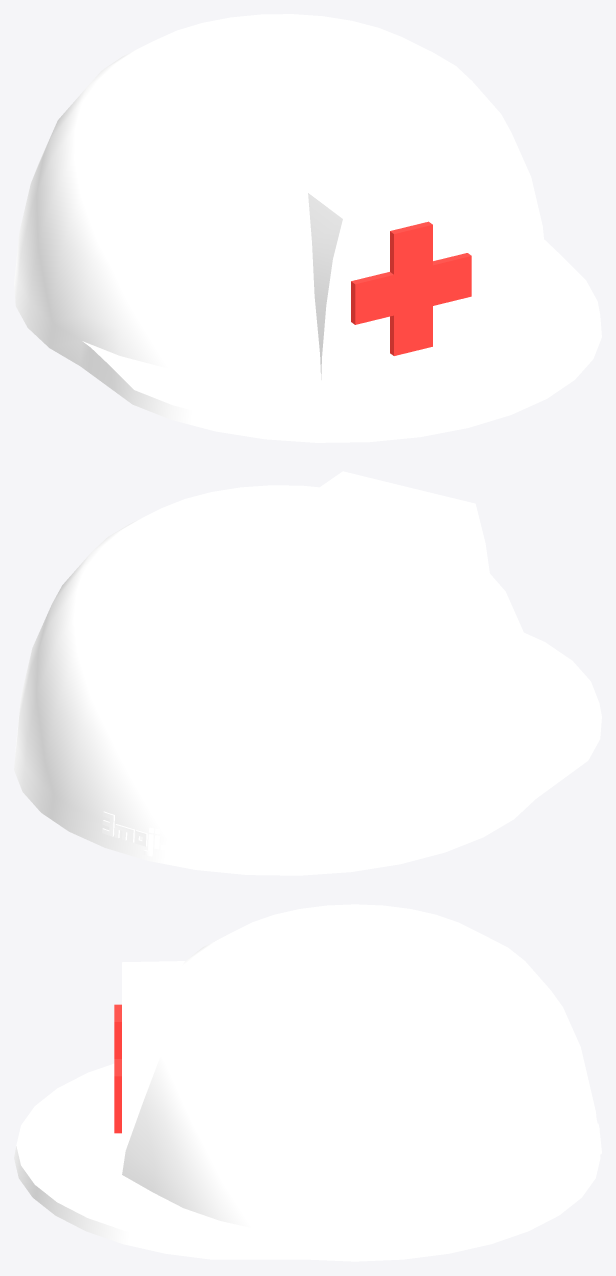
The model's file is rescue_workers_helmet.gltf.
The picture shows the model from 3 angles, top to bottom: view 1: azimuth 30°, elevation 25°; view 2: azimuth 150°, elevation 25°; view 3: azimuth 270°, elevation 25°; orthographic projection. The views are drawn at different scales.
Parts seen in each view (by area): view 1: Sphere.371; view 2: Sphere.371; view 3: Sphere.371.
Part boxes in pixels (left/top/right/bottom): Sphere.371: left=14, top=14, right=601, bottom=442; Sphere.371: left=14, top=471, right=601, bottom=875; Sphere.371: left=14, top=904, right=601, bottom=1261.
Bounding box in the file's own units: 2.1 × 1.04 × 2.52.
Materials: 1 (1 with a texture image).
